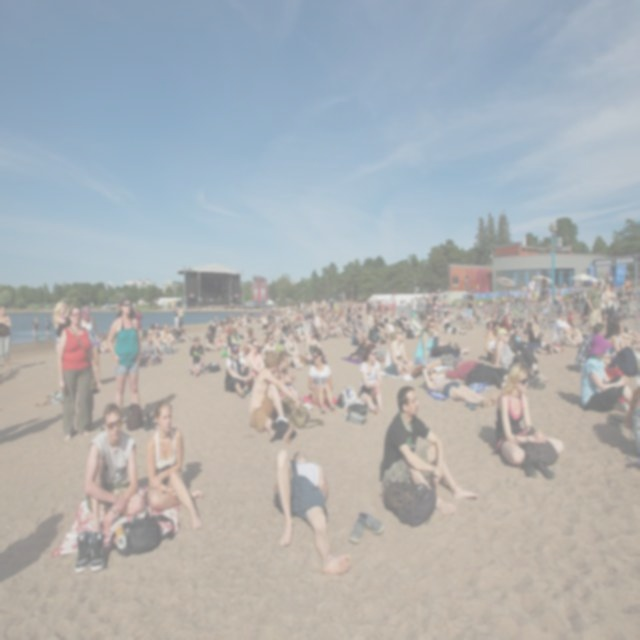pessoa: (378, 380, 481, 516), (270, 445, 352, 578), (76, 397, 148, 545), (144, 397, 207, 531), (494, 360, 567, 469), (56, 301, 100, 443), (247, 347, 303, 446), (579, 331, 635, 415), (105, 294, 144, 413), (421, 365, 497, 409), (494, 326, 537, 387), (444, 355, 510, 391), (306, 345, 336, 415), (357, 343, 385, 417), (80, 305, 104, 389), (222, 342, 255, 399), (273, 349, 304, 406), (382, 324, 414, 379), (580, 321, 610, 377), (414, 317, 442, 374), (432, 315, 469, 355), (599, 317, 627, 369), (422, 311, 452, 359), (524, 310, 555, 355), (244, 337, 266, 393), (551, 310, 580, 349), (52, 298, 72, 354), (498, 312, 521, 355), (0, 302, 13, 373), (305, 324, 327, 365), (604, 280, 620, 336), (284, 328, 304, 371), (618, 314, 640, 353), (483, 320, 502, 365), (628, 387, 640, 453), (140, 332, 161, 368), (442, 309, 468, 336), (190, 334, 206, 377), (586, 276, 602, 318), (372, 313, 392, 345), (351, 312, 368, 349), (160, 323, 178, 355), (262, 330, 278, 365), (204, 323, 222, 353), (550, 282, 567, 311), (227, 327, 242, 358), (464, 286, 474, 331), (268, 319, 280, 353), (326, 319, 346, 339), (582, 299, 596, 326), (316, 311, 328, 342), (499, 292, 517, 311), (134, 308, 144, 342), (514, 311, 527, 337), (225, 319, 238, 344), (216, 318, 228, 345), (398, 308, 410, 335), (340, 315, 354, 337), (282, 317, 292, 346), (244, 326, 256, 350), (468, 293, 476, 327), (628, 285, 636, 319), (600, 283, 612, 305), (426, 290, 434, 323), (150, 328, 163, 348), (275, 307, 286, 330), (414, 296, 424, 320), (576, 286, 584, 316), (426, 295, 434, 324), (488, 309, 498, 332), (616, 283, 622, 321), (346, 300, 354, 328), (436, 297, 444, 325), (31, 314, 40, 338), (540, 275, 548, 302), (540, 303, 549, 326), (176, 303, 183, 332), (368, 309, 378, 329), (572, 289, 580, 313), (146, 323, 156, 342), (566, 307, 576, 326), (388, 310, 398, 329), (412, 295, 419, 322), (303, 300, 311, 323), (527, 276, 536, 296), (352, 300, 364, 315), (44, 315, 52, 337), (484, 312, 492, 334), (519, 292, 528, 311), (486, 297, 499, 310), (173, 306, 180, 330), (566, 288, 572, 316), (601, 267, 612, 282), (32, 317, 38, 344), (291, 316, 298, 338), (528, 303, 542, 314), (367, 299, 382, 309), (456, 300, 462, 324), (295, 298, 304, 314), (328, 295, 335, 315), (495, 309, 502, 329), (262, 312, 270, 329), (479, 298, 487, 315), (330, 307, 343, 317), (310, 297, 316, 318), (582, 288, 588, 309), (98, 331, 106, 346), (266, 321, 274, 336), (432, 290, 440, 305), (619, 284, 629, 296), (286, 303, 296, 315), (255, 311, 263, 325), (636, 283, 640, 311), (333, 298, 344, 308), (266, 310, 274, 323), (459, 302, 464, 322), (224, 313, 236, 321), (243, 310, 250, 323), (318, 307, 325, 320), (236, 312, 242, 326), (570, 280, 580, 288), (321, 297, 326, 312), (443, 298, 449, 310), (381, 309, 386, 323), (249, 306, 254, 320), (520, 283, 528, 291), (214, 314, 218, 327), (384, 300, 389, 310), (624, 278, 631, 285), (316, 299, 321, 308), (476, 282, 480, 293), (154, 321, 160, 328), (504, 285, 510, 292), (292, 316, 296, 326), (400, 298, 406, 303), (262, 307, 266, 314), (572, 288, 576, 294)
